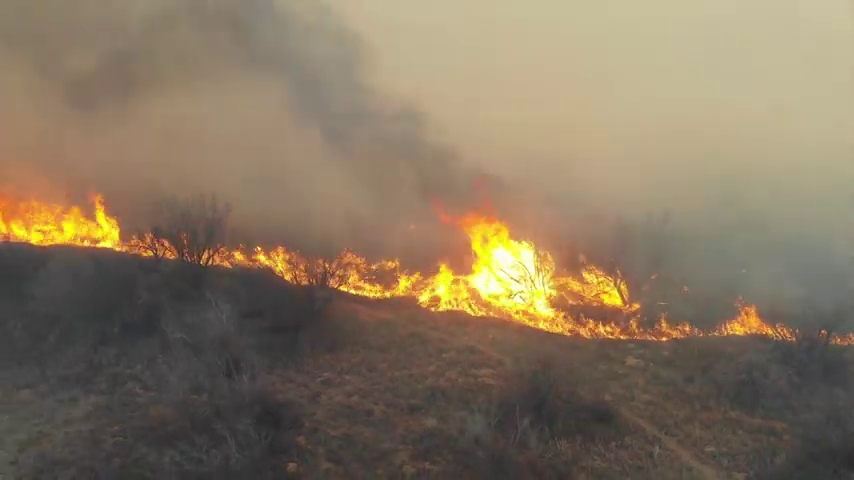forest_fire: (200, 219, 800, 340), (0, 194, 190, 259)
